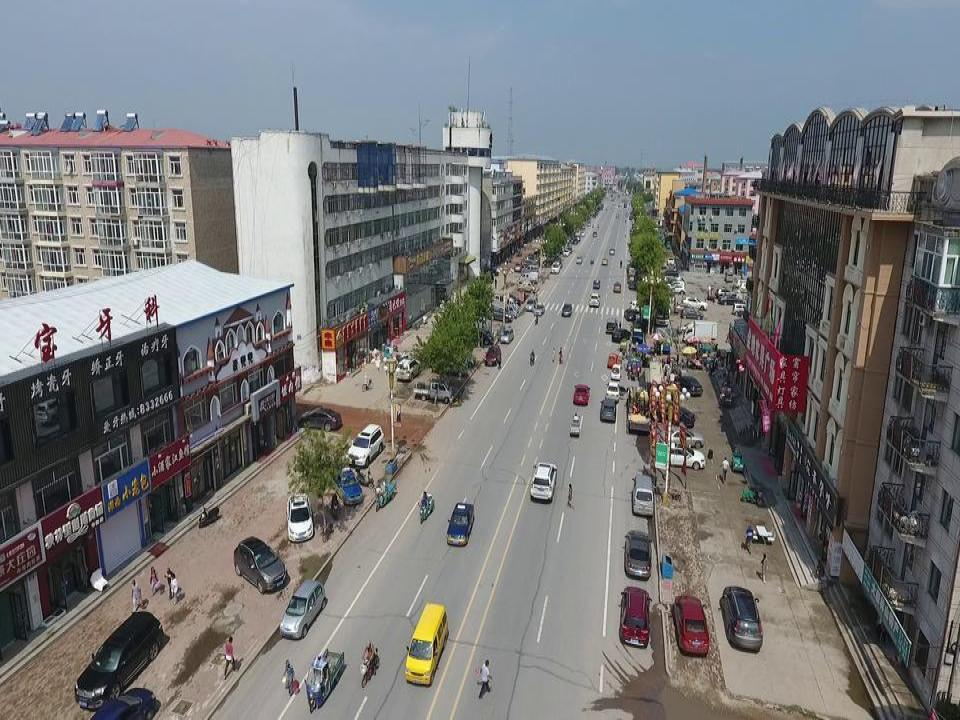bus: (653, 295, 671, 326)
car: (73, 610, 163, 710), (233, 534, 288, 594), (279, 579, 326, 641), (721, 585, 764, 651), (671, 595, 710, 656), (89, 686, 156, 720), (619, 586, 653, 649), (345, 424, 385, 468), (624, 529, 654, 580), (329, 463, 365, 505), (286, 492, 314, 541), (446, 501, 475, 547), (649, 400, 696, 428), (660, 444, 707, 471), (297, 405, 343, 432), (659, 425, 704, 450), (530, 461, 557, 502), (669, 373, 703, 398), (457, 324, 494, 345), (395, 357, 422, 382), (486, 304, 513, 324), (604, 380, 627, 401), (600, 397, 618, 423), (573, 381, 591, 406), (484, 342, 502, 367), (681, 296, 708, 311), (717, 293, 744, 307), (611, 326, 632, 342), (679, 307, 704, 320), (673, 302, 699, 314), (714, 285, 736, 299), (499, 325, 514, 344), (666, 282, 686, 295), (628, 297, 642, 315), (606, 352, 619, 368), (560, 302, 573, 318), (588, 292, 601, 308), (610, 363, 622, 380), (533, 301, 545, 316), (623, 308, 636, 321), (550, 260, 561, 275), (591, 277, 602, 291), (612, 280, 622, 293), (575, 253, 583, 264), (601, 254, 608, 266), (608, 247, 616, 256)
truck: (625, 386, 651, 434), (413, 377, 453, 404), (681, 321, 719, 344), (626, 355, 642, 380)
van: (405, 601, 449, 687), (631, 473, 655, 516), (442, 341, 476, 371), (460, 312, 491, 332), (731, 302, 751, 318), (604, 316, 618, 335), (723, 270, 734, 283)
